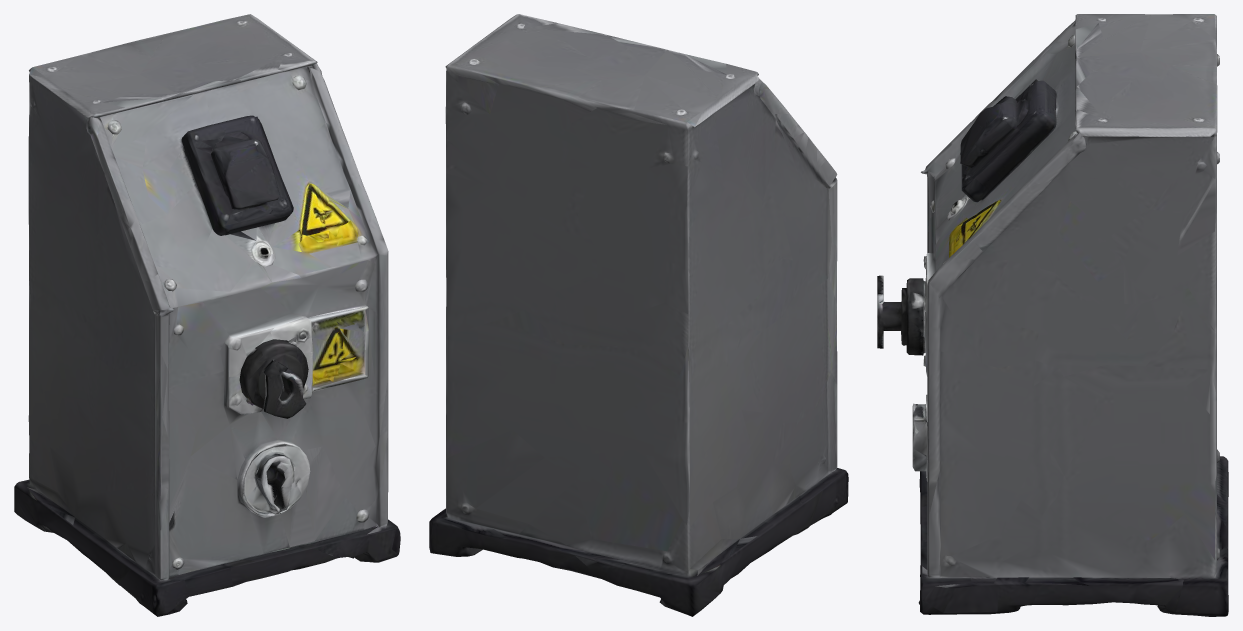
The model's file is control_panel.glb.
3 views of the same model, side by side, from view 1: azimuth 30°, elevation 25°; view 2: azimuth 150°, elevation 25°; view 3: azimuth 270°, elevation 25° (orthographic). The views are drawn at different scales.
Parts seen in each view (by area): view 1: Mesh; view 2: Mesh; view 3: Mesh.
Part boxes in pixels (x1,y1,x2,y2): Mesh: (14,14,400,616); Mesh: (429,14,848,616); Mesh: (877,14,1228,616).
Bounding box in the file's own units: 0.5625 × 0.9786 × 0.6433.
Materials: 1 (1 with a texture image).
